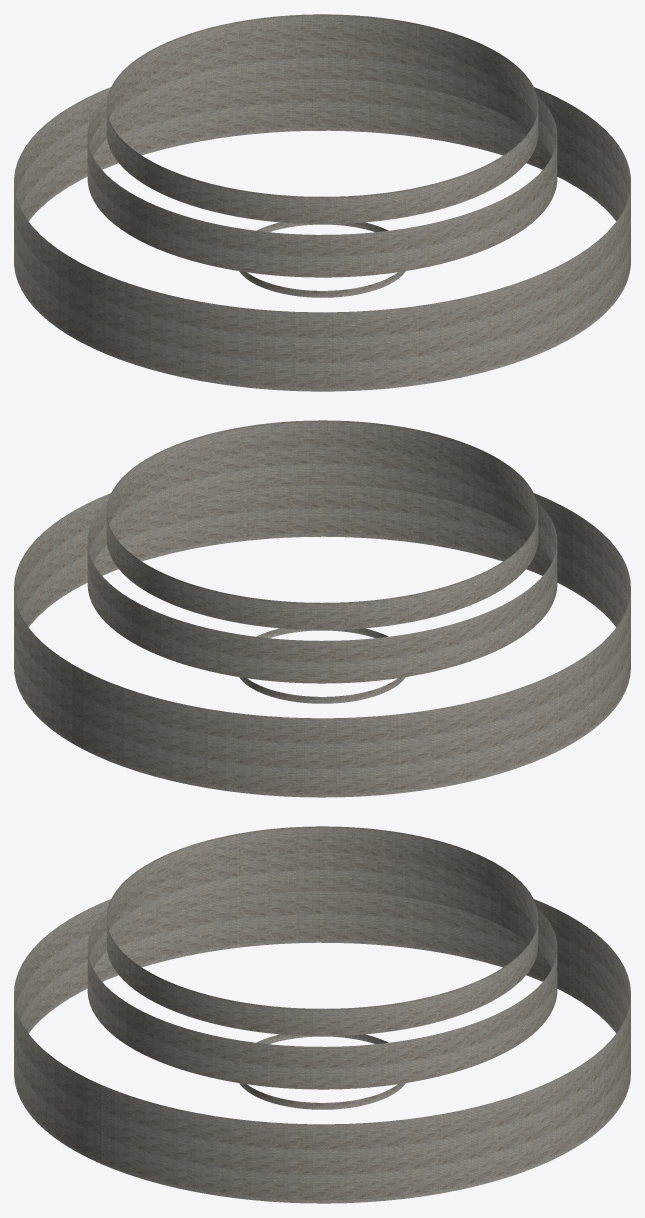
Rendered from Walls.fbx.
3 views of the same model, one above another, from view 1: azimuth 30°, elevation 25°; view 2: azimuth 150°, elevation 25°; view 3: azimuth 270°, elevation 25° (orthographic).
Visible parts, largest first — view 1: Walls; view 2: Walls; view 3: Walls.
Boxes of the visible parts, x1,y1,x2,y2 form: Walls: [14, 14, 630, 391]; Walls: [14, 420, 630, 797]; Walls: [14, 826, 630, 1203].
Bounding box in the file's own units: 8776 × 2441 × 8776.
